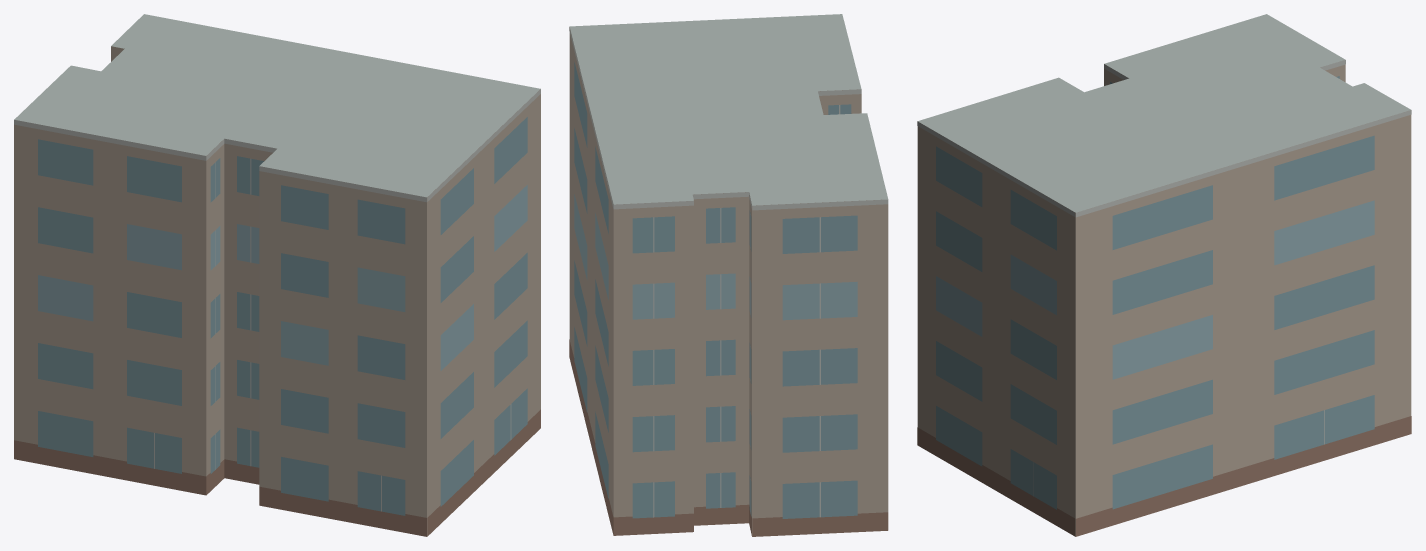
Rendered from survey-upis-32592411.glb.
3 renders of one model, left to right at view 1: azimuth 30°, elevation 25°; view 2: azimuth 150°, elevation 25°; view 3: azimuth 270°, elevation 25°, orthographic. The views are drawn at different scales.
Parts seen in each view (by area): view 1: survey-upis-32592411.tmp; view 2: survey-upis-32592411.tmp; view 3: survey-upis-32592411.tmp.
Boxes of the visible parts, x1,y1,x2,y2 form: survey-upis-32592411.tmp: (14,14,540,536); survey-upis-32592411.tmp: (569,14,888,536); survey-upis-32592411.tmp: (917,14,1411,536).
Size of the model in its own units: 22.11 by 16.8 by 23.21.
